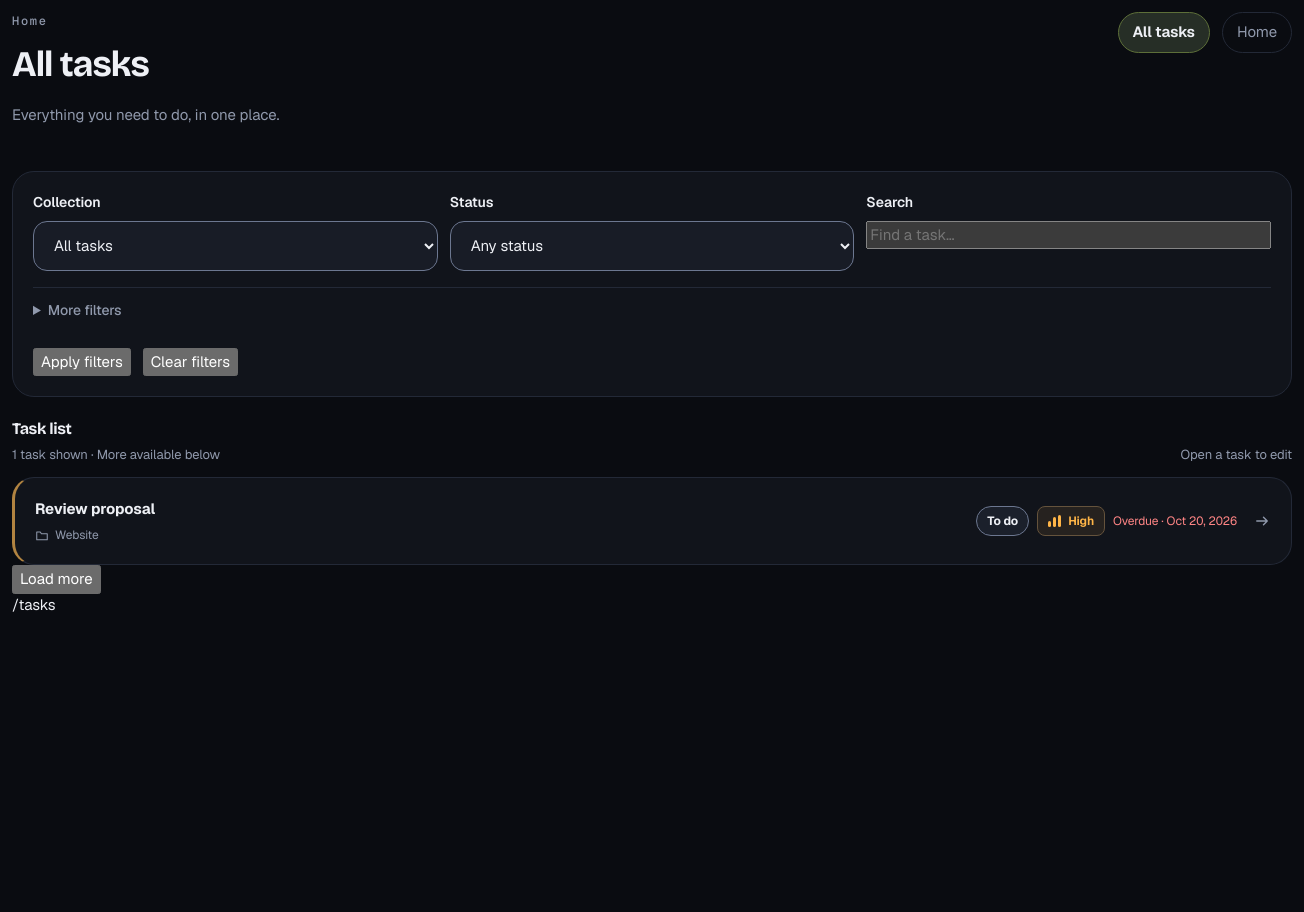
Scenario: AllTasksPage › restarts from the first page when a saved cursor is rejected
Expected: the link "Review proposal Website To do High Overdue · Oct 20, 2026" is shown, [12,476,1292,565]
What coordinates should you click on to do the following:
click the button with test id "global-task-load-more"
I would click on:
 (56, 579)
Its box is [12,565,100,594].
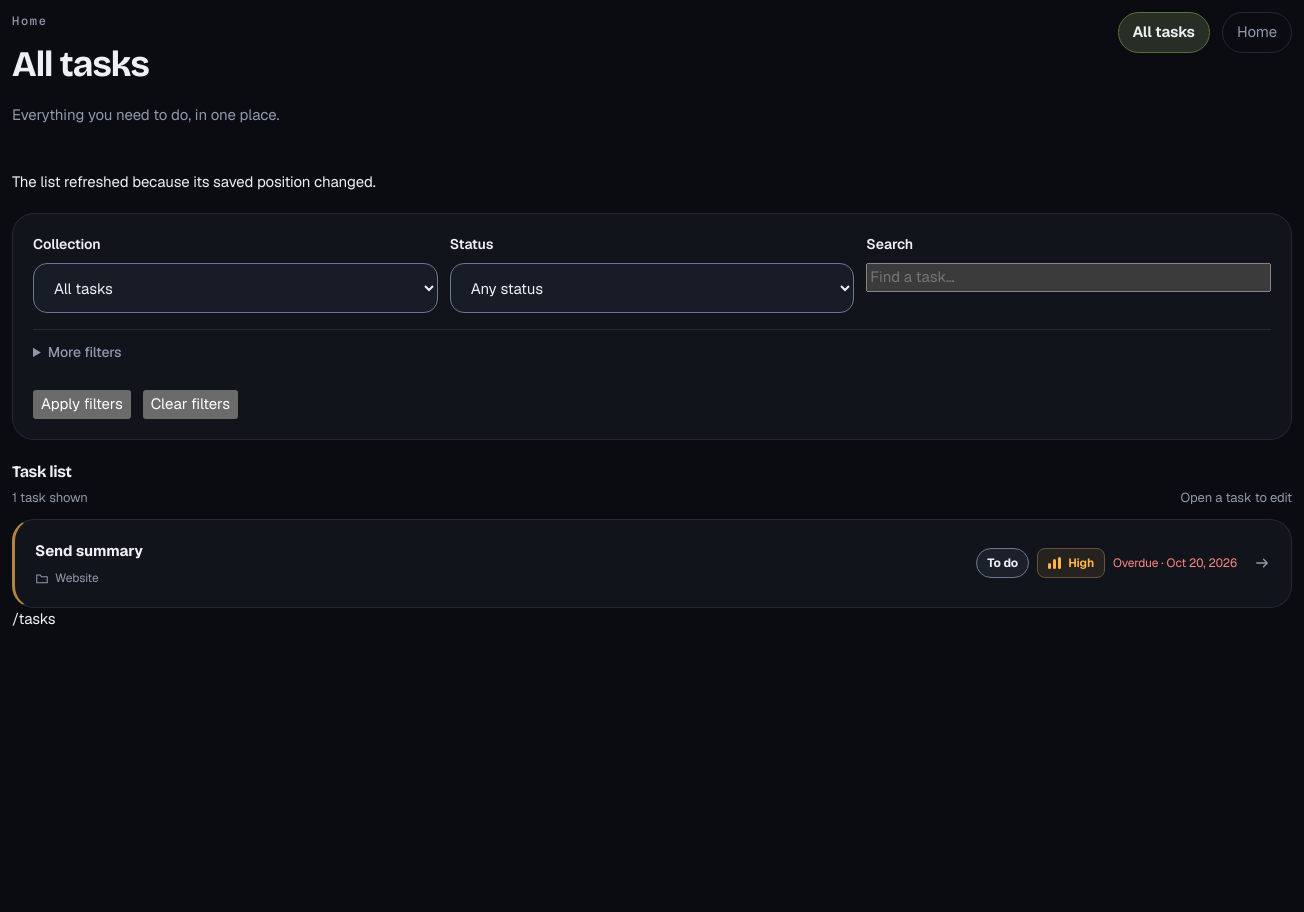
Expected: the message "The list refreshed because its saved position changed." is shown, [12,172,376,190]
Expected: the link "Send summary Website To do High Overdue · Oct 20, 2026" is shown, [12,519,1292,608]
Expected: the link "Review proposal" is gone
